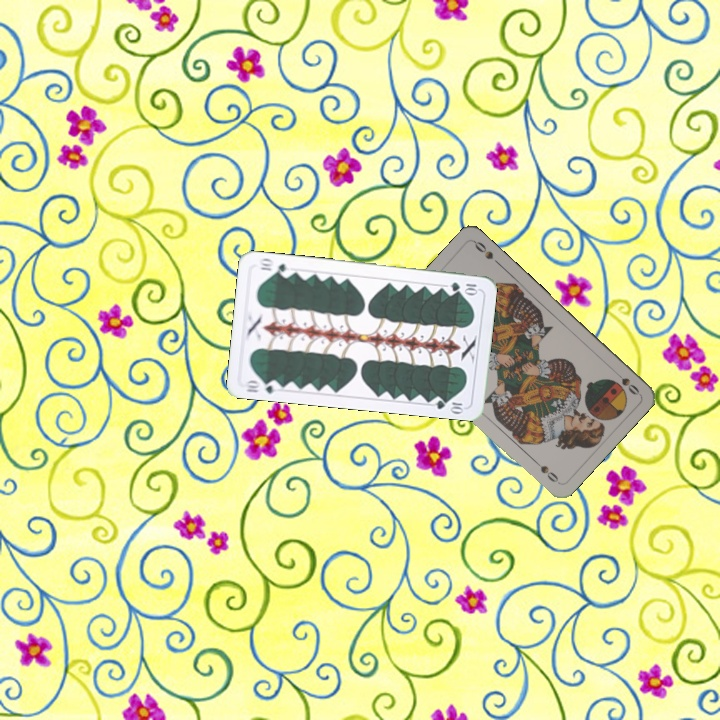G10: (241, 376, 282, 396), (446, 278, 481, 296)
SO: (609, 366, 642, 398)
